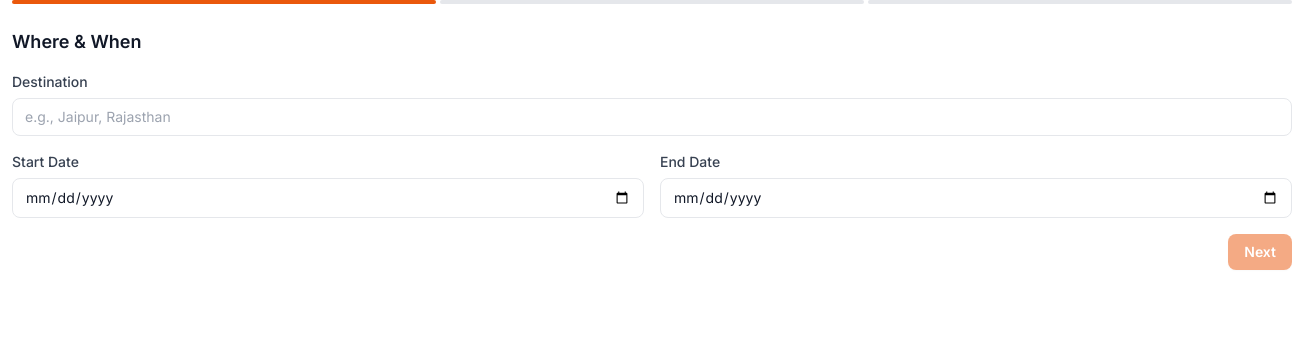
Test: WizardForm › shows loading state on submit button
This screenshot has width=1304, height=351.
Type "Goa" into the field labelled "Destination" at [652, 117], box top-left (12, 98), bottom-right (1292, 136)
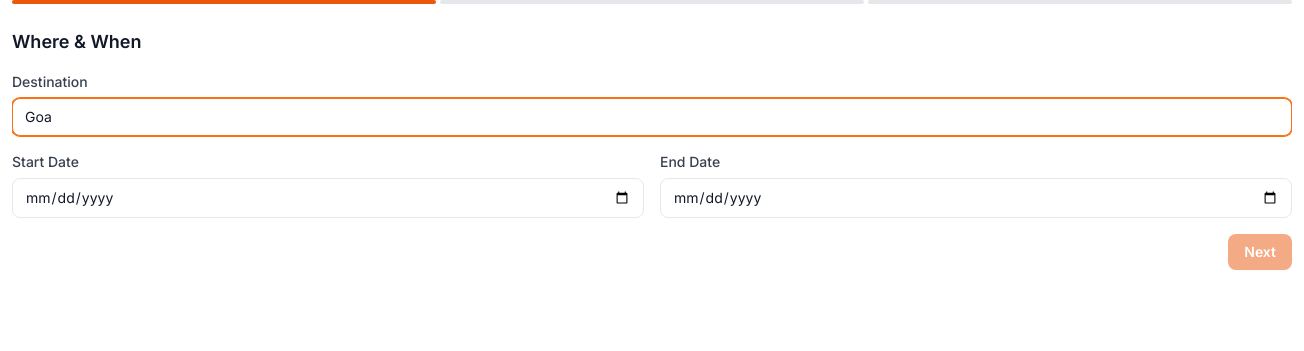
Type "2026-07-01" into the date field labelled "Start Date" at [328, 198], box top-left (12, 178), bottom-right (644, 218)
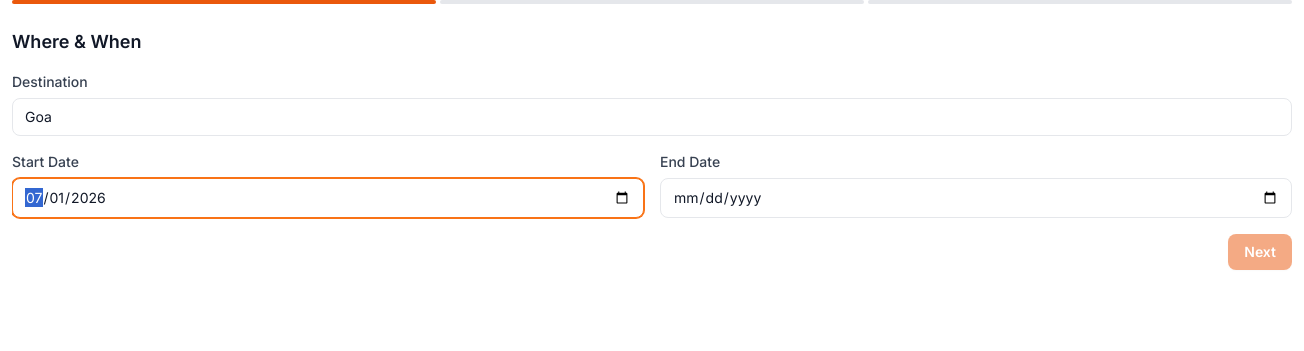
Type "2026-07-03" into the date field labelled "End Date" at [976, 198], box top-left (660, 178), bottom-right (1292, 218)
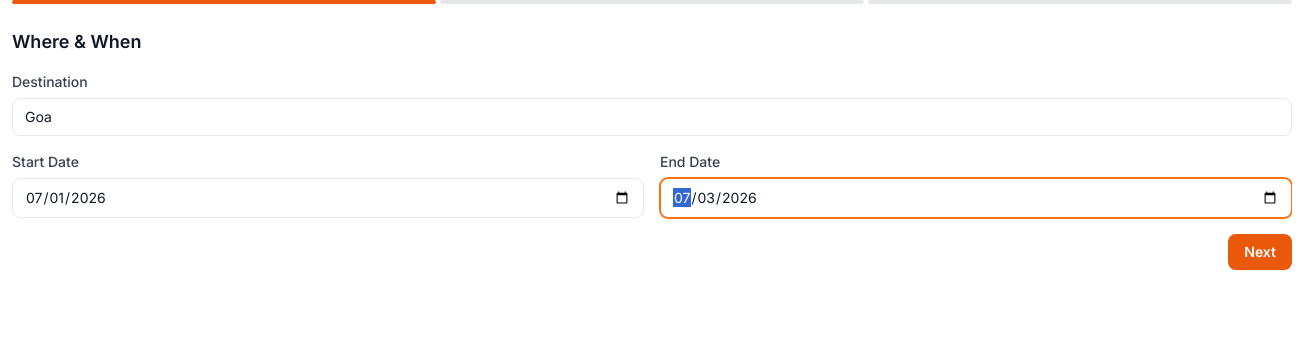
Click the button "Next" at [1260, 252], box top-left (1228, 234), bottom-right (1292, 270)
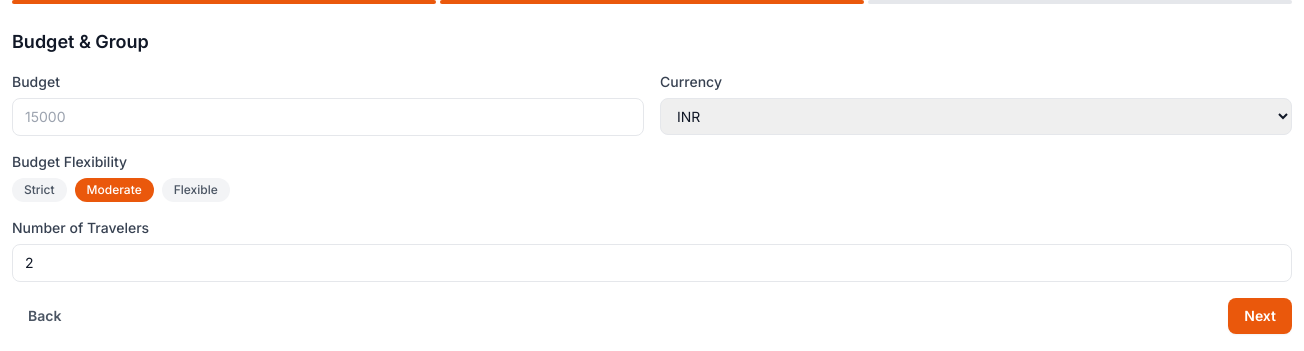
Click the button "Next" at [1260, 316], box top-left (1228, 298), bottom-right (1292, 334)
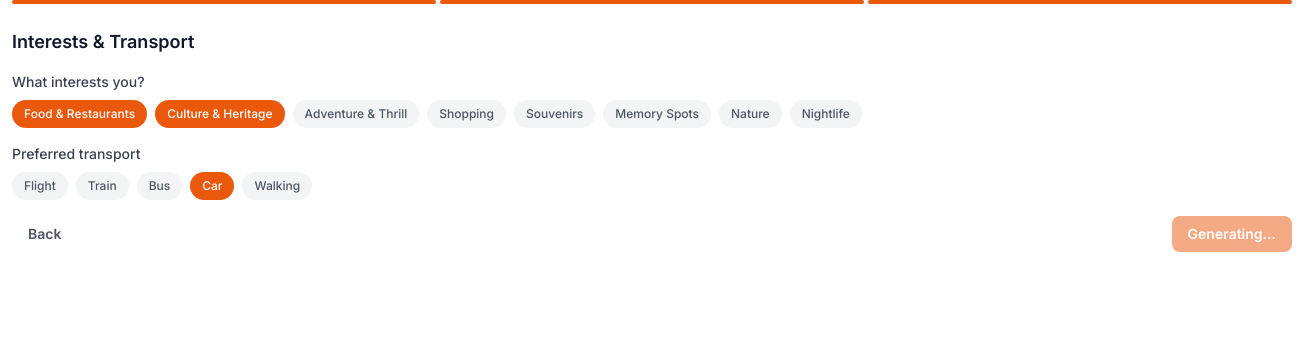
Check: the button "Generating..." is shown, box top-left (1172, 216), bottom-right (1292, 252)
